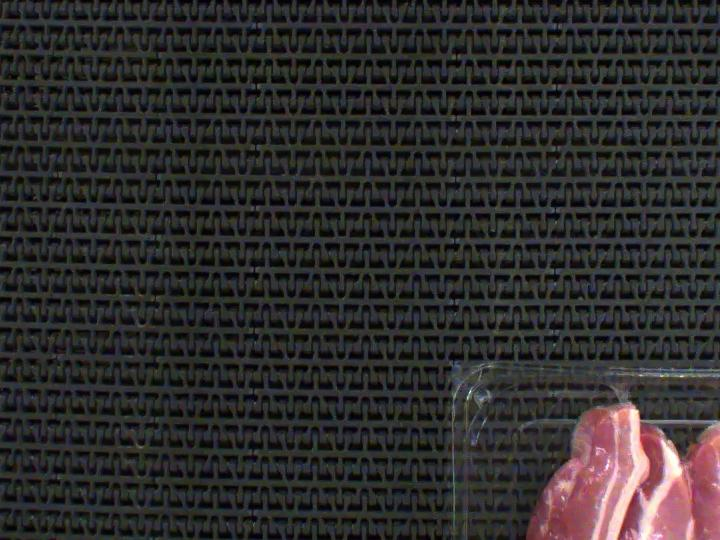packaging-error: (601, 374, 636, 410)
